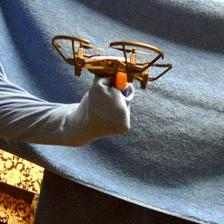drone: (52, 33, 174, 94)
